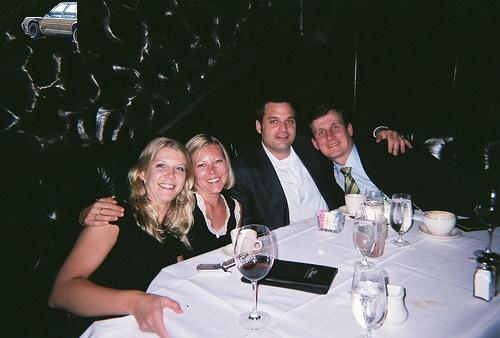tampered: (22, 3, 77, 43)
